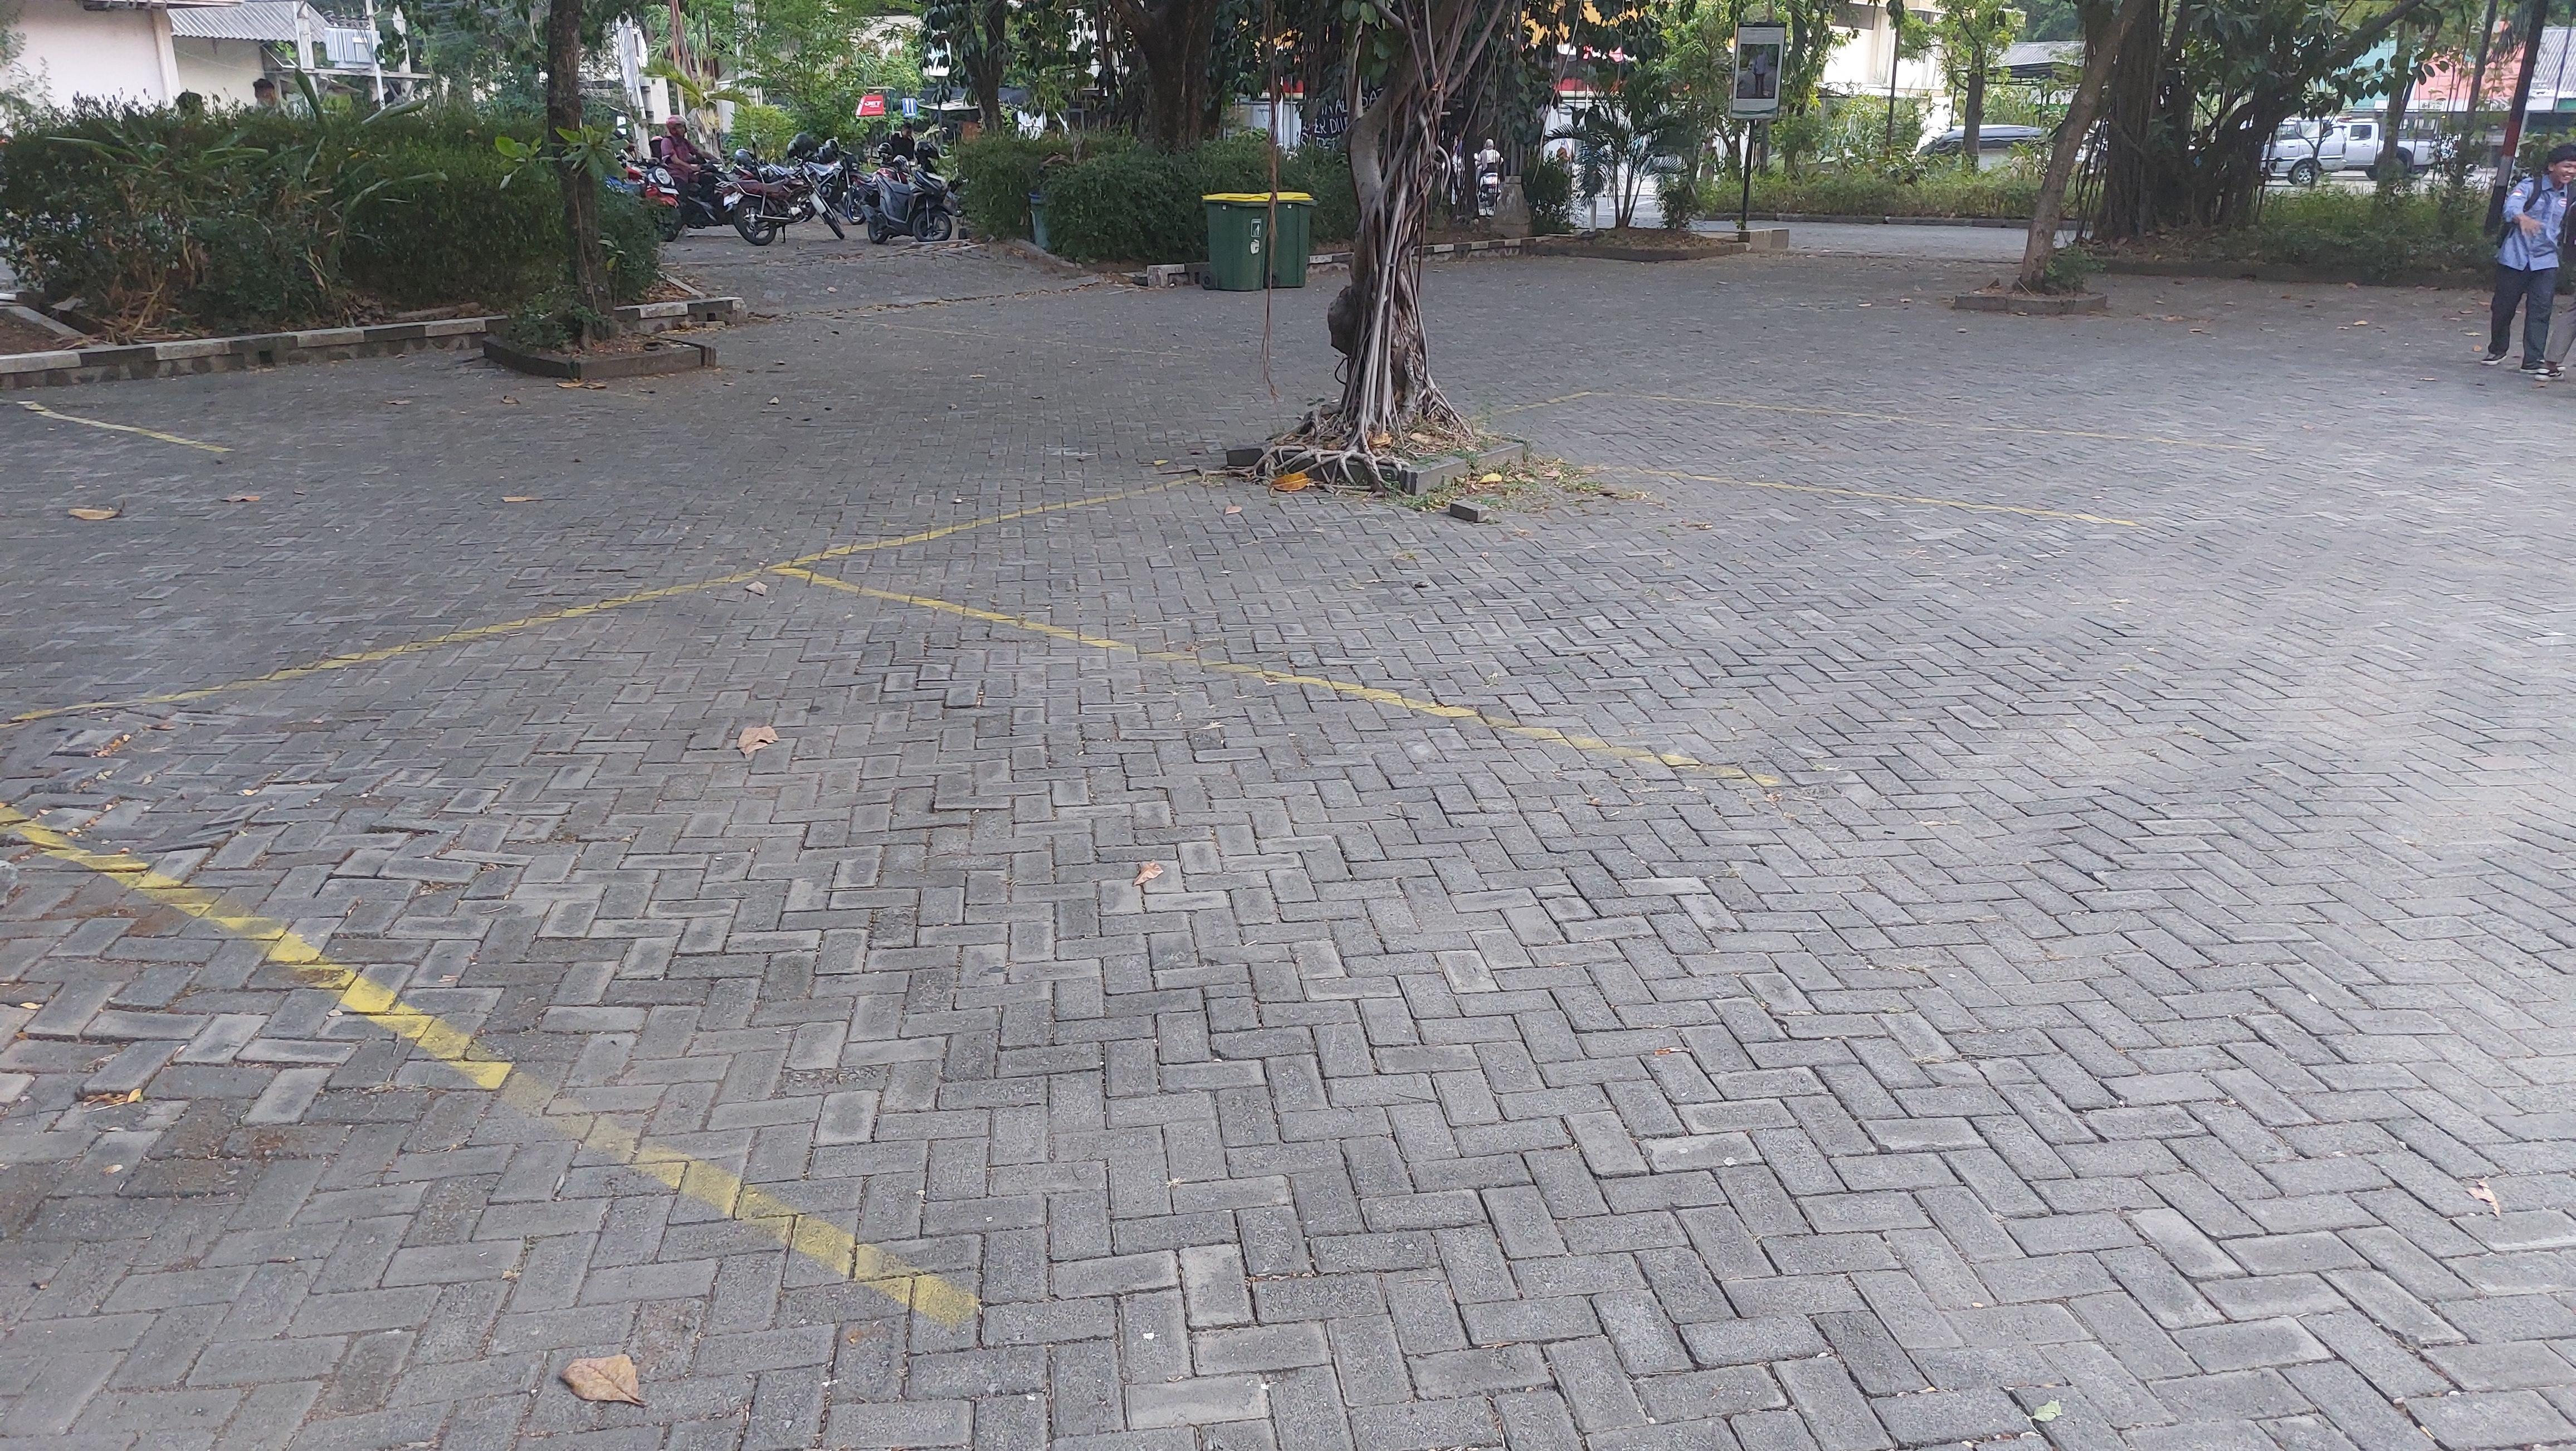empty: (0, 572, 1773, 1340), (773, 461, 2061, 788), (1427, 389, 2262, 528), (0, 352, 628, 456)
